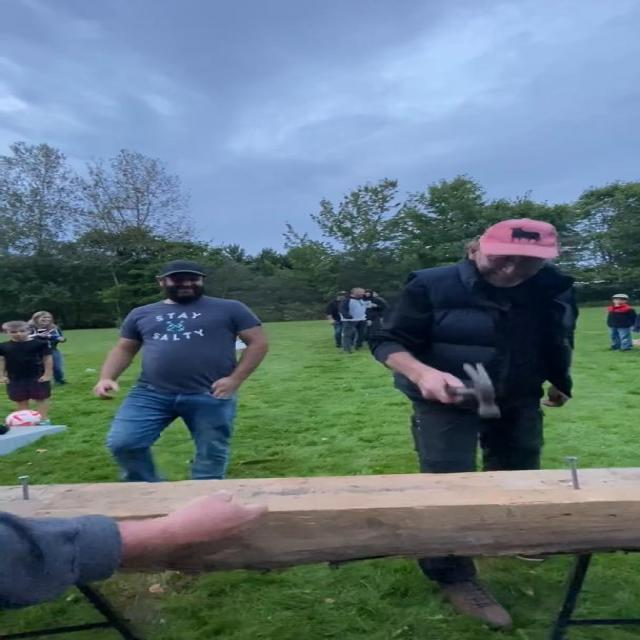hammer: (444, 362, 502, 420)
